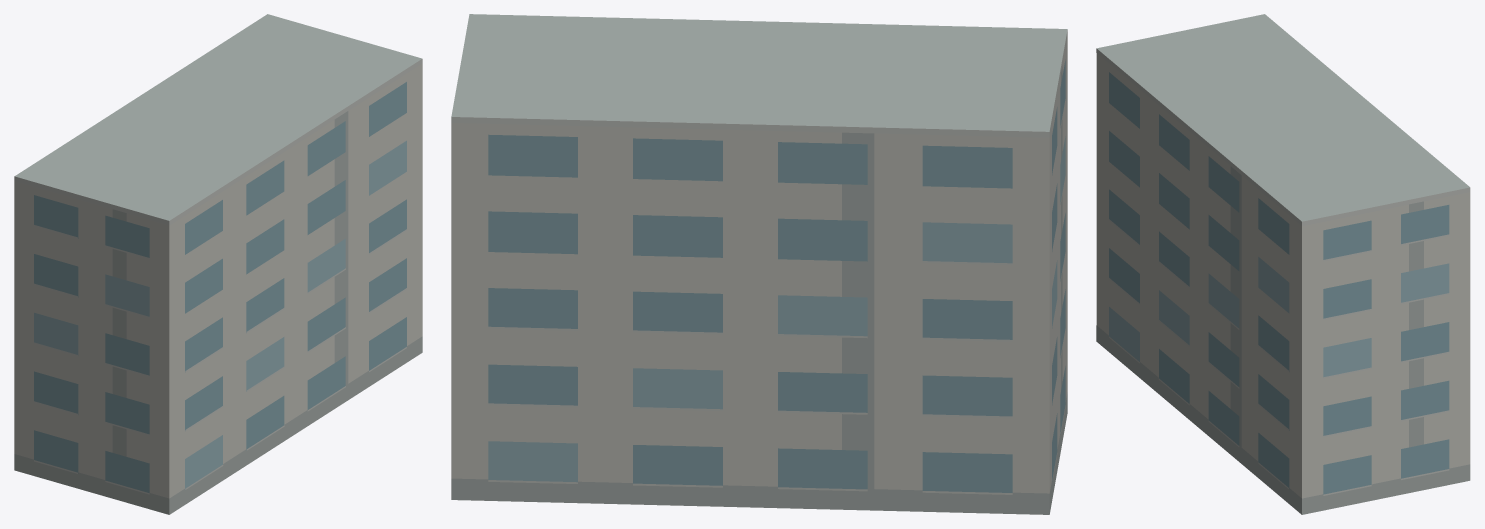
Rendered from survey-upis-32840716.glb.
3 views of the same model, side by side, from view 1: azimuth 30°, elevation 25°; view 2: azimuth 150°, elevation 25°; view 3: azimuth 270°, elevation 25° (orthographic). The views are drawn at different scales.
Visible parts, largest first — view 1: survey-upis-32840716.tmp; view 2: survey-upis-32840716.tmp; view 3: survey-upis-32840716.tmp.
Boxes of the visible parts, x1,y1,x2,y2 form: survey-upis-32840716.tmp: (14,14,422,514); survey-upis-32840716.tmp: (451,14,1067,514); survey-upis-32840716.tmp: (1096,14,1470,514).
Bounding box in the file's own units: 23.86 × 15.7 × 18.15.
